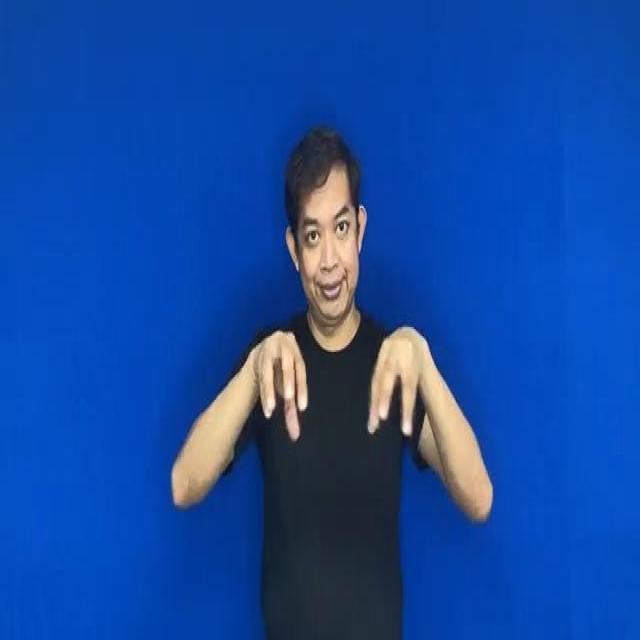egg: (251, 312, 434, 457)
